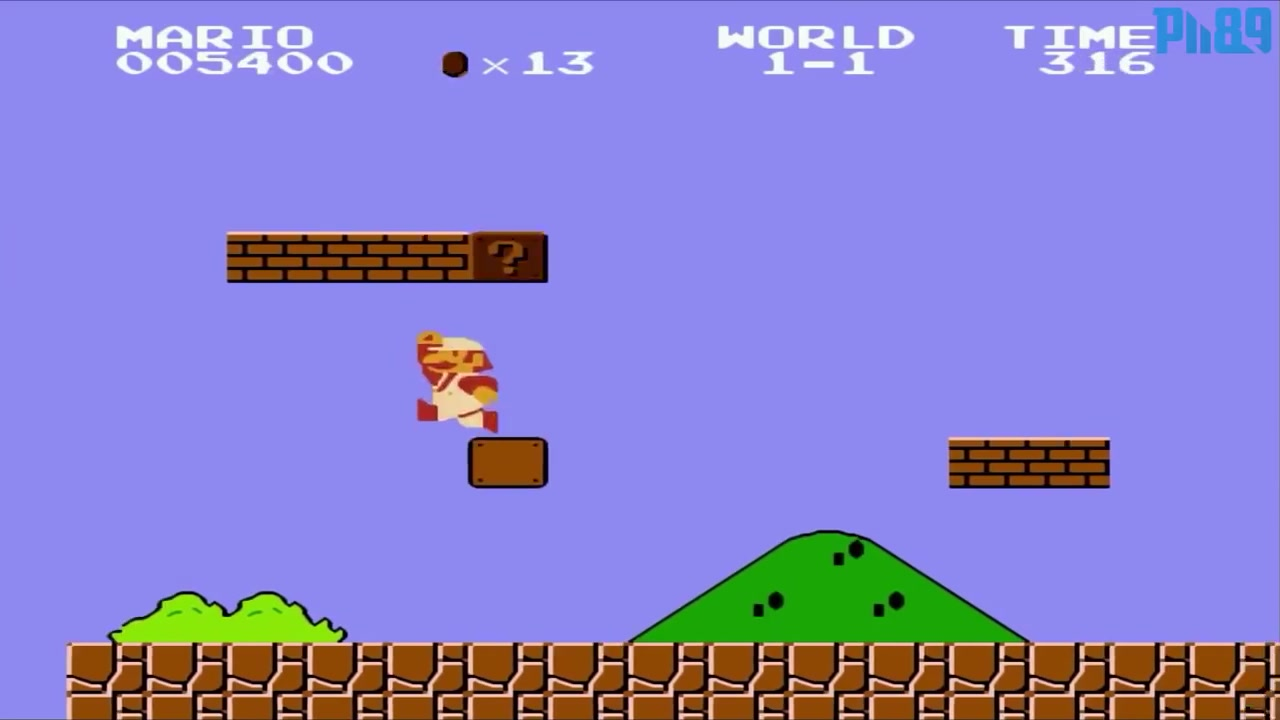mario: (407, 329, 503, 439)
